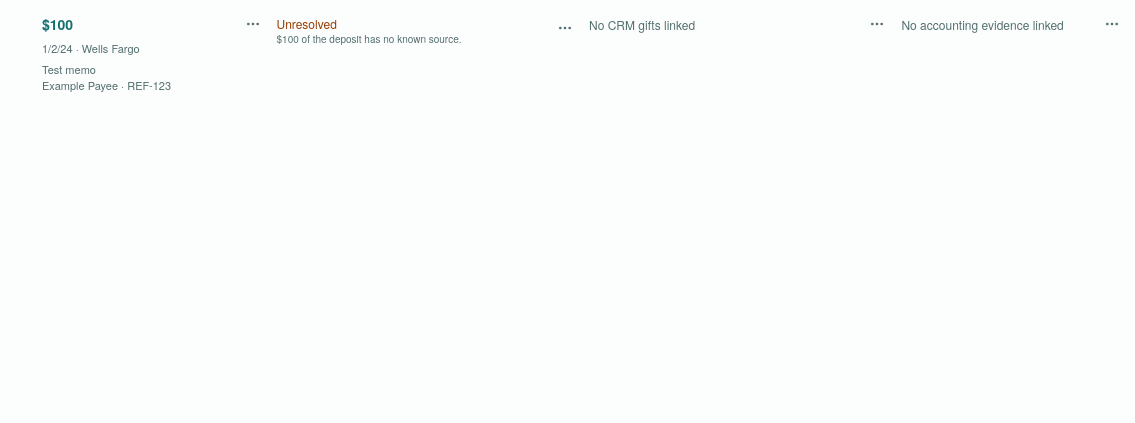
it: deposit workbench rows › shows the finance-only exclusion reason list for an unexcluded deposit
Press the mouse on the button named "Card actions" at coordinates (252, 24), box [240,12,264,36]
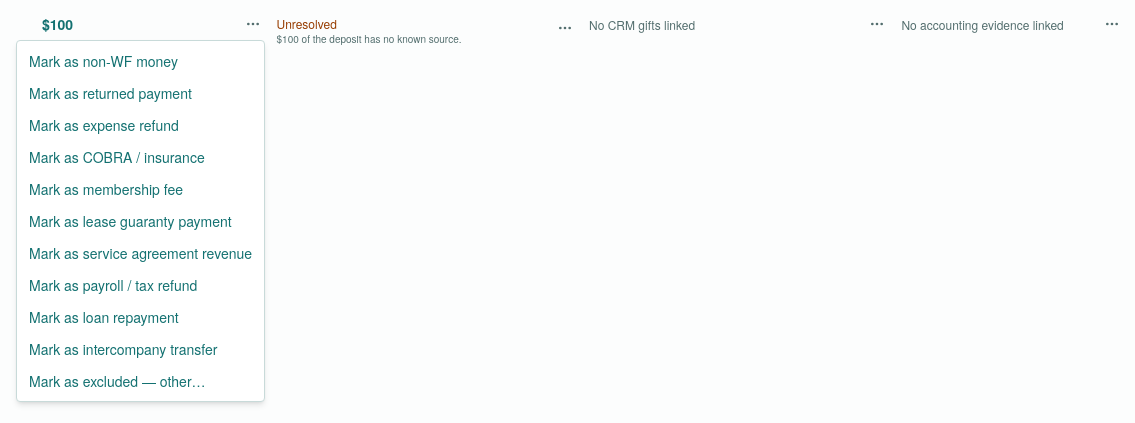
Now the text "Mark as non-WF money" is shown, box [29,51,178,71]
Now the text "Mark as membership fee" is shown, box [29,179,183,199]
Now the text "Mark as excluded — other…" is shown, box [29,371,206,391]
